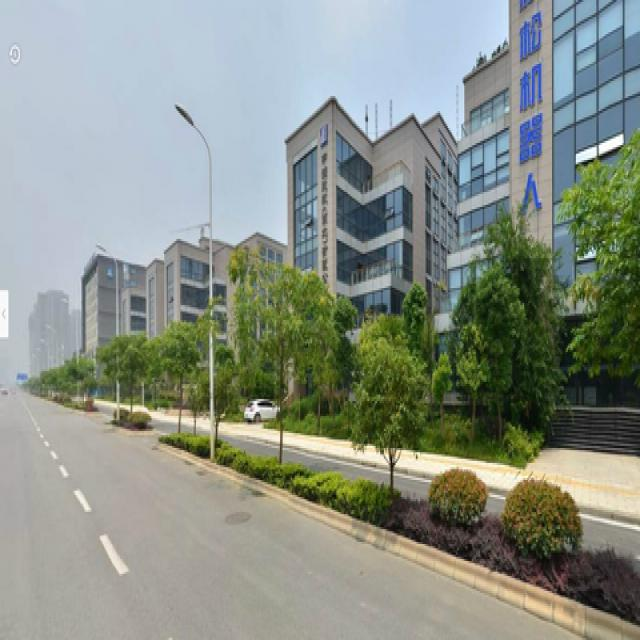sali: (230, 252, 326, 480)
